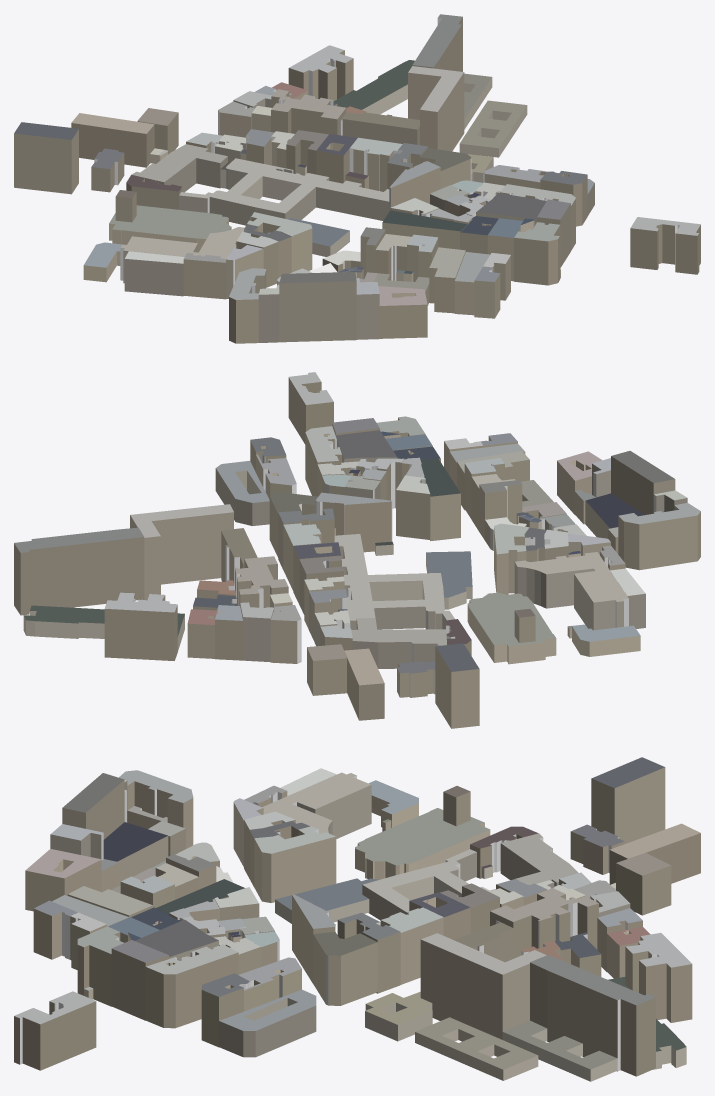
The picture shows the model from 3 angles, top to bottom: view 1: azimuth 30°, elevation 25°; view 2: azimuth 150°, elevation 25°; view 3: azimuth 270°, elevation 25°; orthographic projection. The views are drawn at different scales.
Parts seen in each view (by area): view 1: tuile; view 2: tuile; view 3: tuile.
Part boxes in pixels (x1,y1,x2,y2): tuile: (14,14,700,343); tuile: (14,372,700,728); tuile: (14,757,700,1081).
Size of the model in its own units: 281 by 35.13 by 281.
